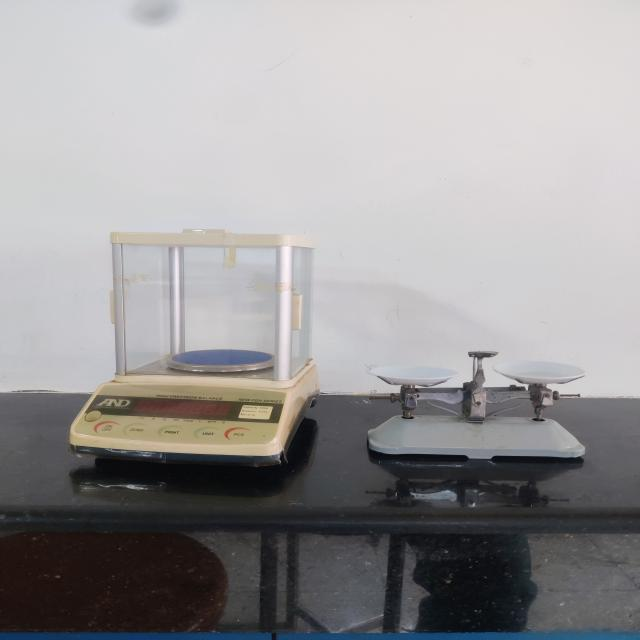Mechanical_Balance_Scale: (358, 335, 610, 487)
Precision_Weight_Scale: (60, 216, 332, 498)
